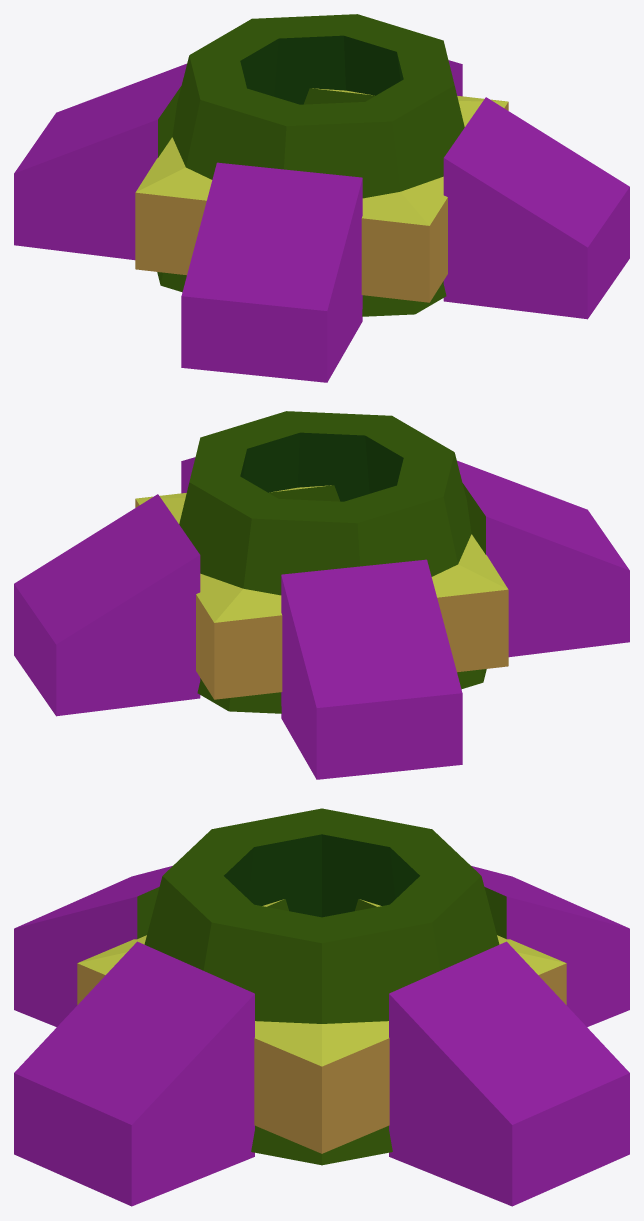
Rendered from placeHolderPlague.glb.
The picture shows the model from 3 angles, top to bottom: view 1: azimuth 30°, elevation 25°; view 2: azimuth 150°, elevation 25°; view 3: azimuth 270°, elevation 25°; orthographic projection. The views are drawn at different scales.
Parts seen in each view (by area): view 1: Cube.001, Cube, Cube.002; view 2: Cube.001, Cube, Cube.002; view 3: Cube.001, Cube, Cube.002.
Boxes of the visible parts, x1,y1,x2,y2 form: Cube.001: [14, 60, 629, 382]; Cube: [157, 14, 464, 316]; Cube.002: [135, 88, 508, 302]; Cube.001: [14, 457, 629, 779]; Cube: [179, 411, 486, 713]; Cube.002: [135, 485, 508, 699]; Cube.001: [14, 866, 629, 1206]; Cube: [144, 808, 499, 1165]; Cube.002: [77, 899, 566, 1153].
Size of the model in its own units: 1.57 by 0.608 by 1.64.
Materials: 1 (1 with a texture image).
